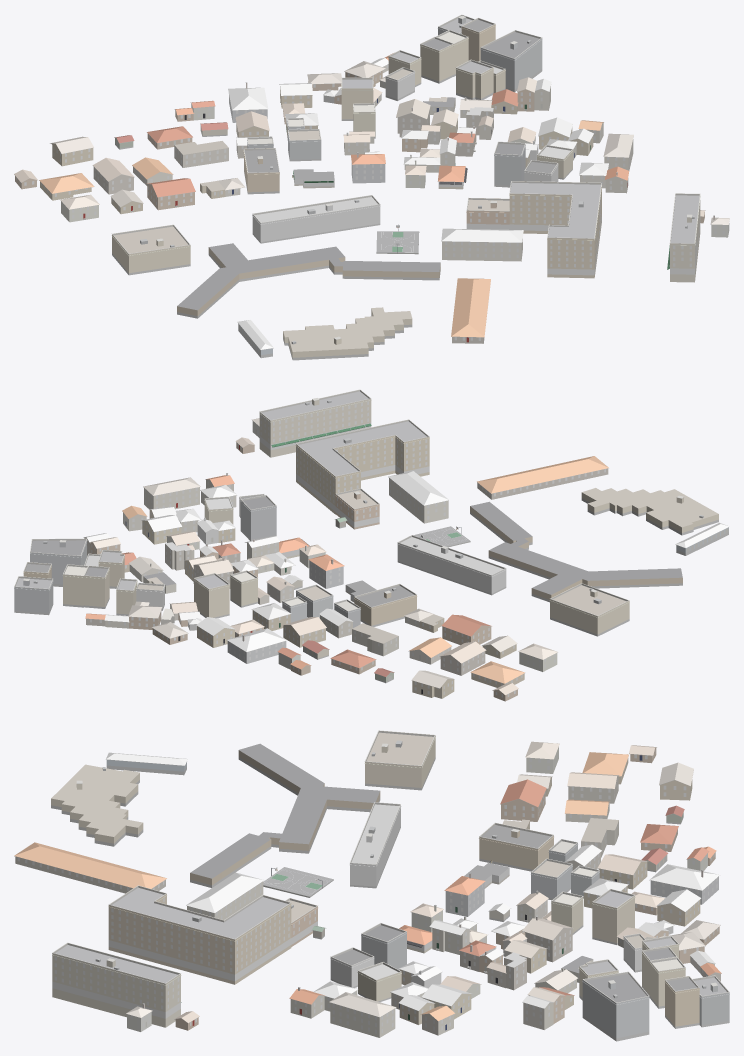
Rendered from bld_0_0.dae.
3 views of the same model, one above another, from view 1: azimuth 30°, elevation 25°; view 2: azimuth 150°, elevation 25°; view 3: azimuth 270°, elevation 25° (orthographic). The views are drawn at different scales.
Parts seen in each view (by area): view 1: blda2068; view 2: blda2068; view 3: blda2068.
Boxes of the visible parts, x1,y1,x2,y2 form: blda2068: [14, 14, 729, 360]; blda2068: [14, 389, 729, 701]; blda2068: [14, 730, 729, 1041].
Size of the model in its own units: 279 by 291 by 23.26.
